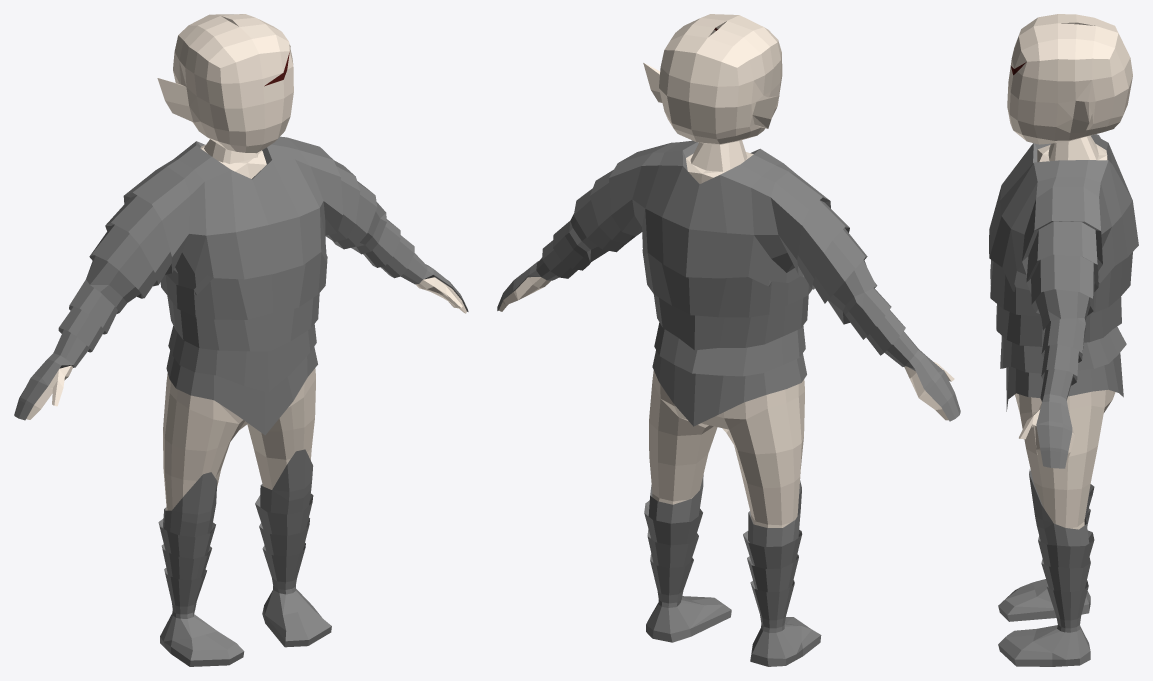
Rendered from orc.fbx.
The picture shows the model from 3 angles, left to right: view 1: azimuth 30°, elevation 25°; view 2: azimuth 150°, elevation 25°; view 3: azimuth 270°, elevation 25°; orthographic projection. The views are drawn at different scales.
Visible parts, largest first — view 1: Head_001; view 2: Head_001; view 3: Head_001.
Part boxes in pixels (x1,y1,x2,y2): Head_001: [14, 14, 468, 666]; Head_001: [497, 14, 960, 666]; Head_001: [989, 14, 1138, 666].
Size of the model in its own units: 302 by 390 by 87.02.
